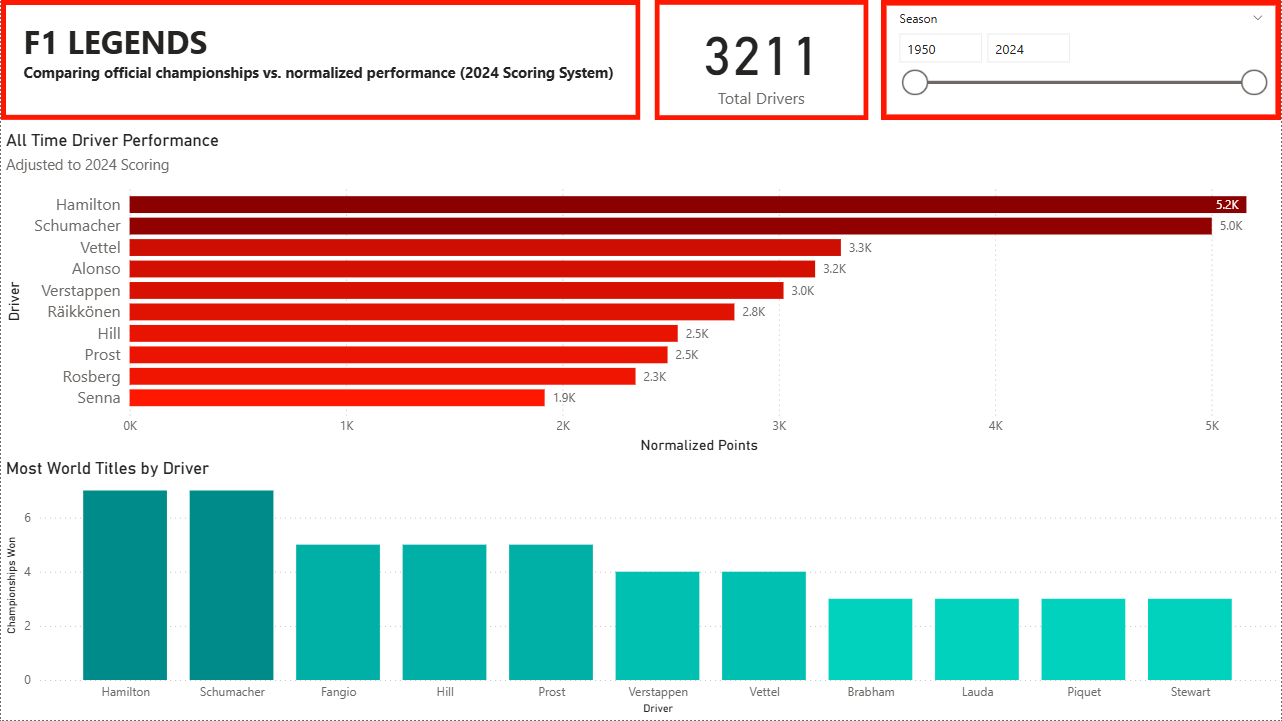

The dashboard page shown, as its layout file describes it:
{"tool":"powerbi","page":{"name":"The Legends","canvas":[1280,720],"ordinal":0},"visuals":[{"type":"clusteredBarChart","title":"All Time Driver Performance","fields":{"Category":["Normalised analysis.driver_last_name"],"Y":["Normalised analysis.total_normalized_points"]},"box":[0,129.6,1280.3,315.5],"z":0},{"type":"clusteredColumnChart","title":"Most World Titles by Driver","fields":{"Category":["Champions.driver_last_name"],"Y":["Champions.season"]},"box":[0,445.1,1280.3,275.1],"z":1000},{"type":"card","fields":{"Values":["Normalised analysis.driver_last_name"]},"box":[654.2,0,214,119.8],"z":2000},{"type":"slicer","fields":{"Values":["Normalised analysis.season"]},"box":[880.4,0,399.9,119.8],"z":3000},{"type":"shape","box":[0,0,639.5,119.8],"z":4000},{"type":"textbox","box":[17.1,14.7,609,90.5],"z":5000}]}

Visuals, with their boxes in screenshot pixels (x1, y1, x2, y2), scaled from the page's 1280x720 canvas onto the 1282x721 screenshot:
"All Time Driver Performance" clusteredBarChart: [left=0, top=130, right=1281, bottom=446]
"Most World Titles by Driver" clusteredColumnChart: [left=0, top=446, right=1281, bottom=720]
card - Normalised analysis.driver_last_name: [left=655, top=0, right=870, bottom=120]
slicer - Normalised analysis.season: [left=882, top=0, right=1281, bottom=120]
shape: [left=0, top=0, right=640, bottom=120]
textbox: [left=17, top=15, right=627, bottom=105]
